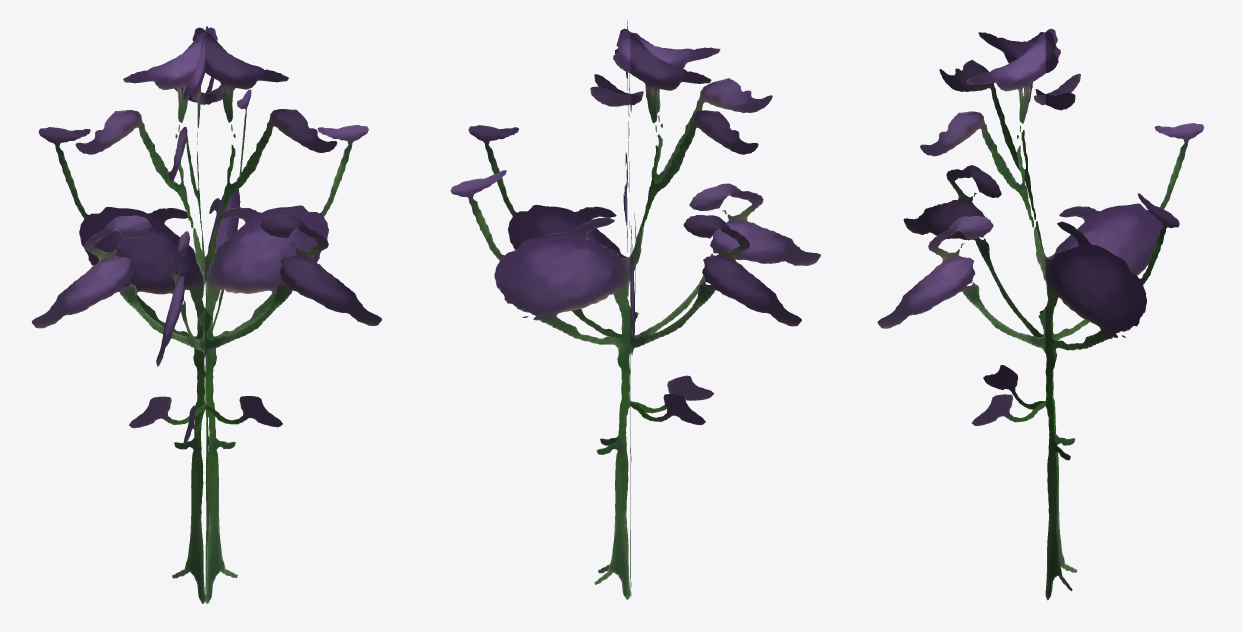
Rendered from Flower_02.fbx.
3 views of the same model, side by side, from view 1: azimuth 30°, elevation 25°; view 2: azimuth 150°, elevation 25°; view 3: azimuth 270°, elevation 25° (orthographic).
Visible parts, largest first — view 1: SM_StandingFlower_03; view 2: SM_StandingFlower_03; view 3: SM_StandingFlower_03.
Part boxes in pixels (x1,y1,x2,y2): SM_StandingFlower_03: [31, 26, 381, 603]; SM_StandingFlower_03: [450, 20, 820, 599]; SM_StandingFlower_03: [877, 28, 1204, 600].
Size of the model in its own units: 22.94 by 35.24 by 19.47.
